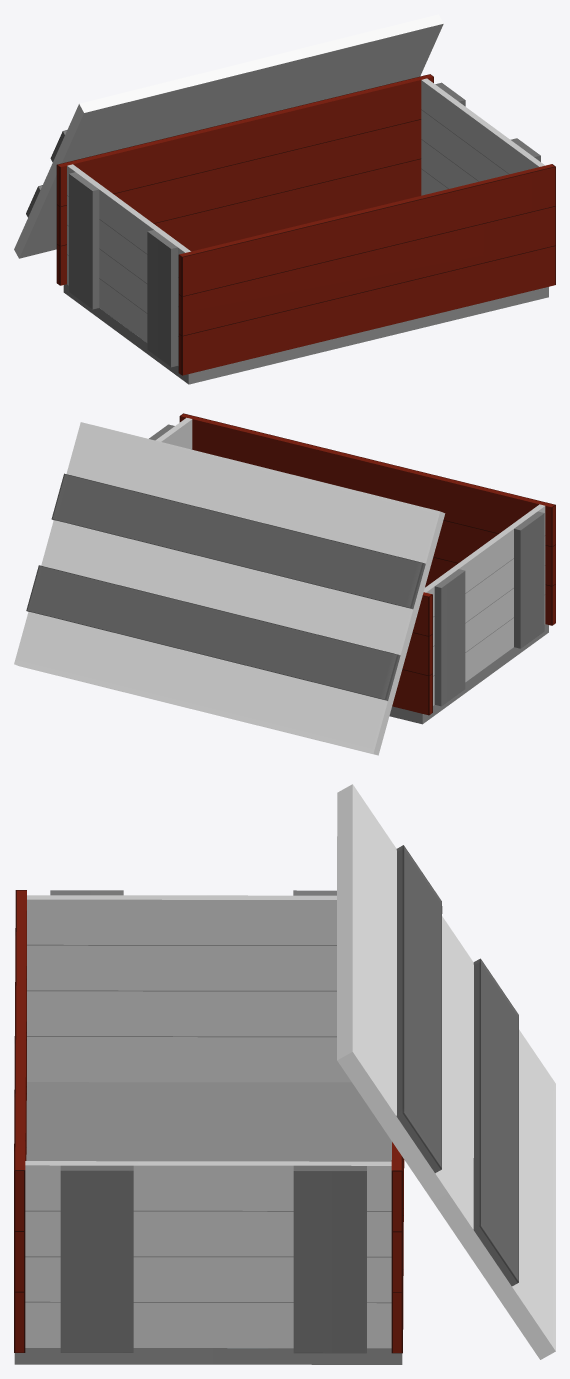
The model's file is Large Colored Crate #1.fbx.
The picture shows the model from 3 angles, top to bottom: view 1: azimuth 30°, elevation 25°; view 2: azimuth 150°, elevation 25°; view 3: azimuth 270°, elevation 25°; orthographic projection. The views are drawn at different scales.
Visible parts, largest first — view 1: Large Colored Crate #1; view 2: Large Colored Crate #1; view 3: Large Colored Crate #1.
Part boxes in pixels (x1=…): Large Colored Crate #1: x1=14, y1=14, x2=555, y2=384; Large Colored Crate #1: x1=14, y1=413, x2=555, y2=755; Large Colored Crate #1: x1=14, y1=784, x2=555, y2=1364.
Size of the model in its own units: 272 by 428 by 525.
Materials: 1 (1 with a texture image).
